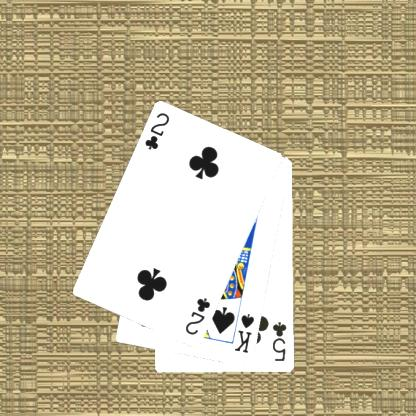2C: (182, 295, 212, 337), (142, 110, 172, 152)
5C: (270, 320, 288, 363)
KS: (232, 311, 256, 355)
